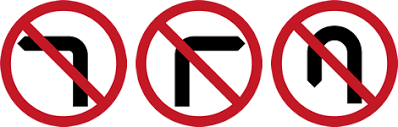No_left_turn: (1, 1, 126, 127)
No_right_turn: (135, 1, 263, 127)
No_u_turn: (271, 1, 397, 126)
